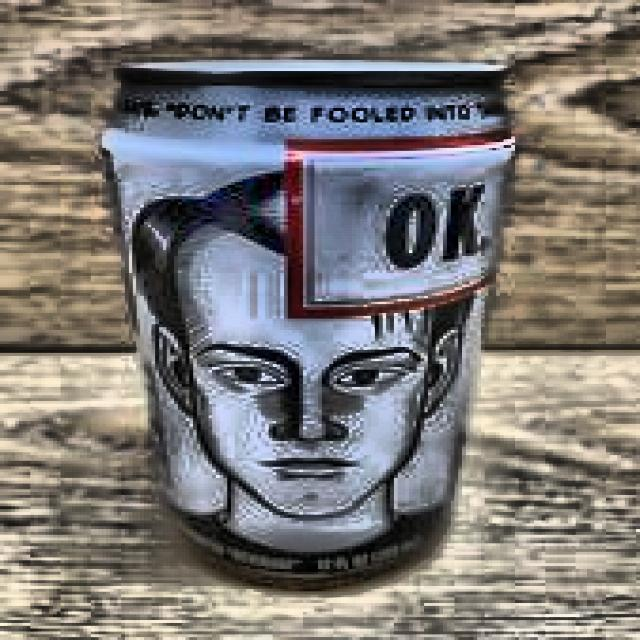Cans: (95, 43, 543, 606)
